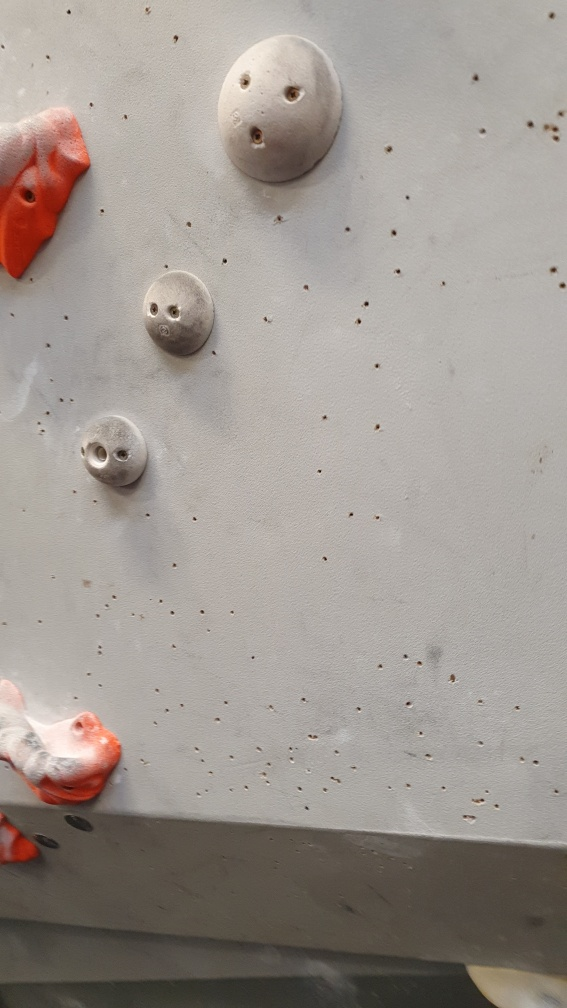Hand Start: (27, 820, 64, 855), (63, 811, 98, 839)
Jug: (1, 100, 94, 274), (1, 680, 125, 807)
Sloper: (220, 32, 347, 186), (141, 269, 221, 363), (80, 409, 154, 495)
